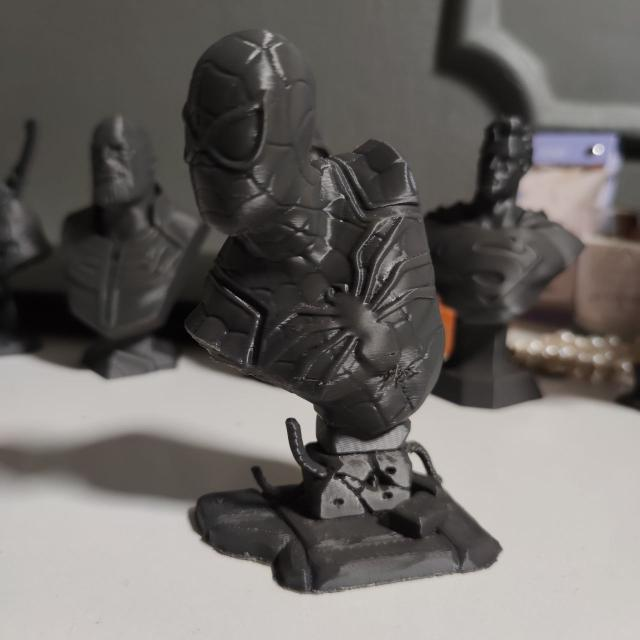Without deffect: (161, 16, 517, 621)
